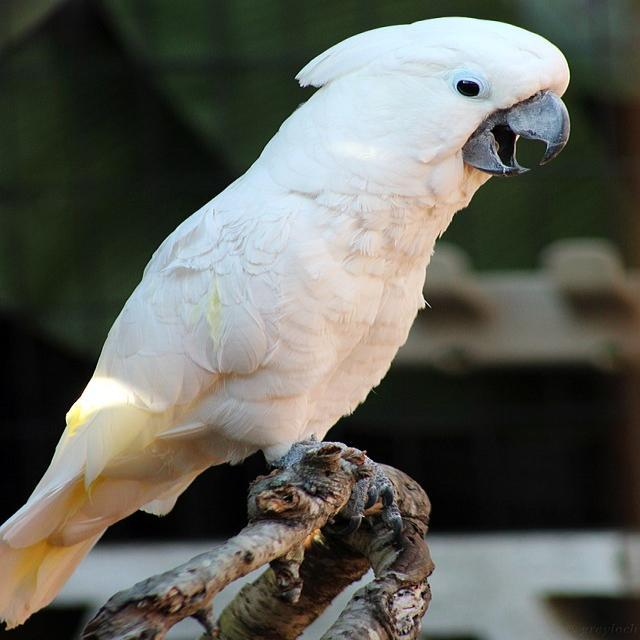Kakatua Putih: (0, 4, 591, 640)
